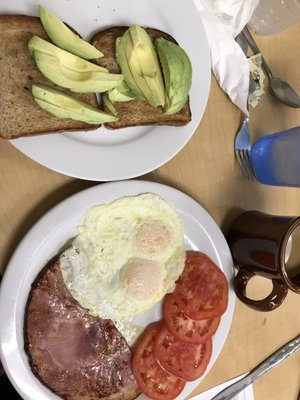soup: (0, 4, 194, 141)
